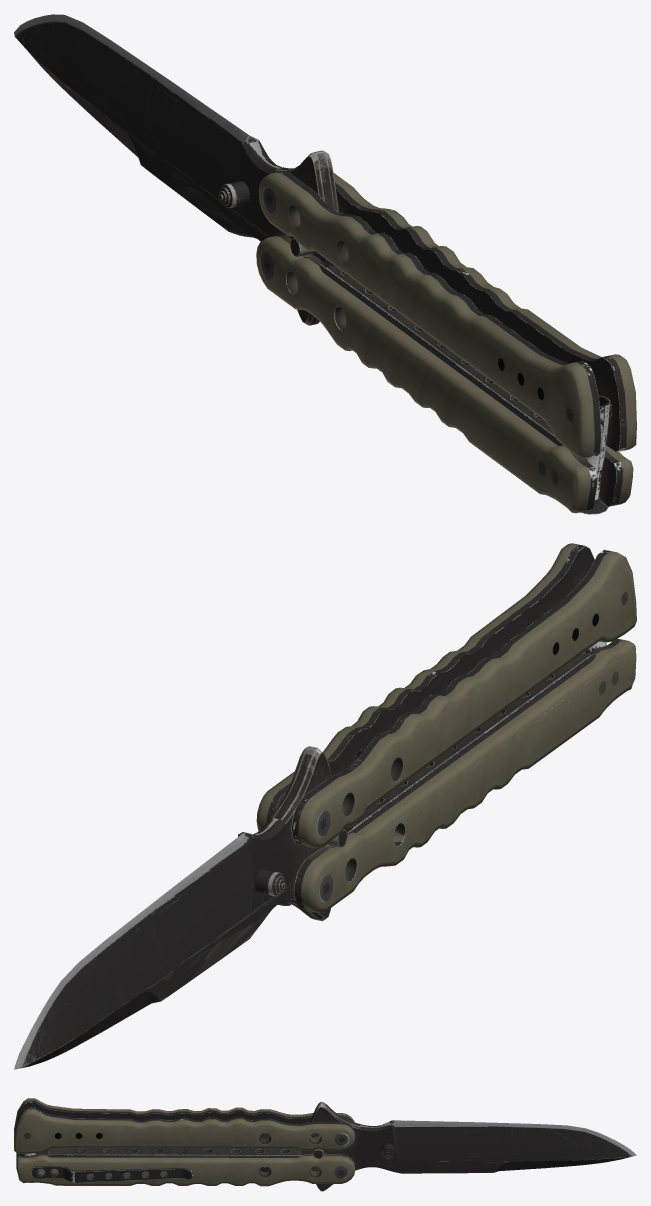
Rendered from b_kelebek.glb.
The picture shows the model from 3 angles, top to bottom: view 1: azimuth 30°, elevation 25°; view 2: azimuth 150°, elevation 25°; view 3: azimuth 270°, elevation 25°; orthographic projection. The views are drawn at different scales.
Visible parts, largest first — view 1: sap1, sap2, govde; view 2: sap1, govde, sap2; view 3: govde, sap1, sap2.
Part boxes in pixels (left/top/right/bottom): sap1: left=258, top=171, right=636, bottom=458; sap2: left=256, top=235, right=633, bottom=514; govde: left=14, top=14, right=338, bottom=325; sap1: left=256, top=543, right=636, bottom=847; govde: left=14, top=746, right=347, bottom=1069; sap2: left=278, top=638, right=636, bottom=912; govde: left=300, top=1101, right=636, bottom=1191; sap1: left=14, top=1098, right=355, bottom=1153; sap2: left=16, top=1148, right=355, bottom=1186.
Bounding box in the file's own units: 0.0173 × 0.0367 × 0.232.
2 materials, 2 textured.
